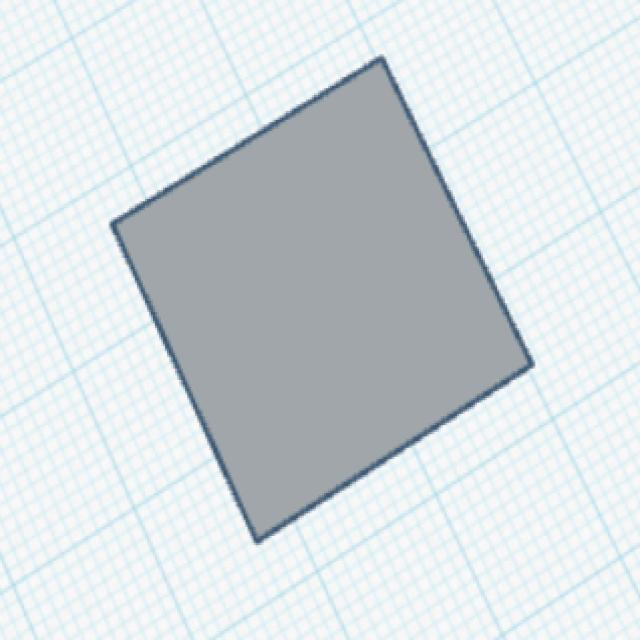cube: (107, 51, 539, 549)
